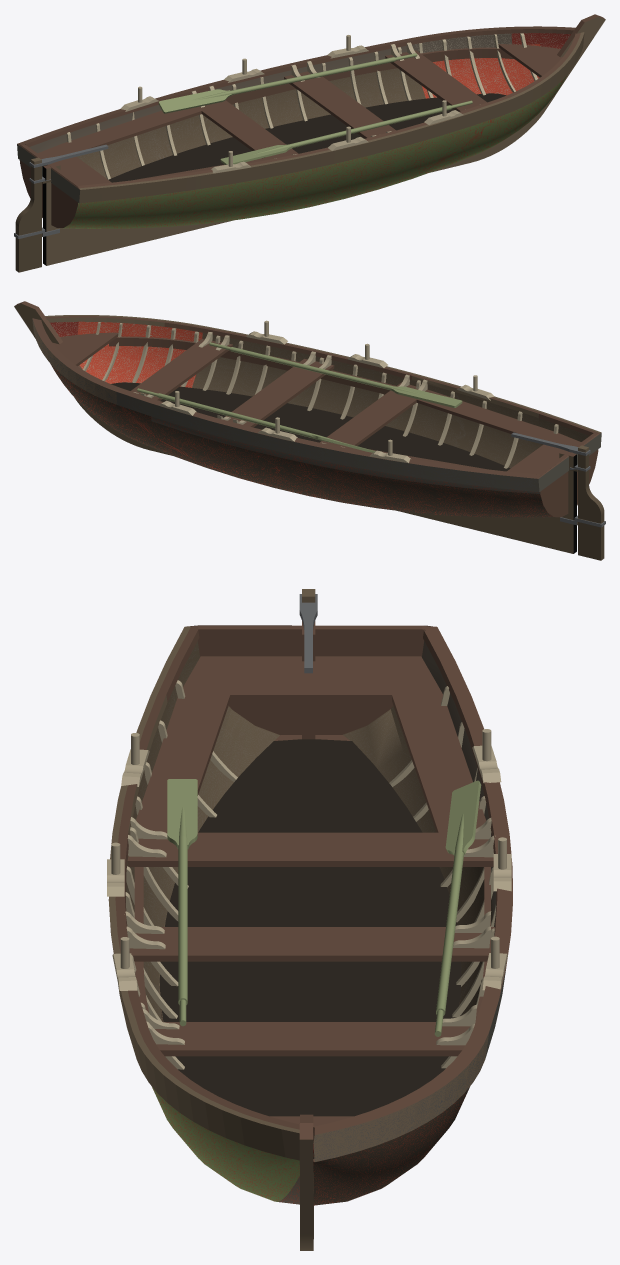
File: boat.glb
3 views of the same model, one above another, from view 1: azimuth 30°, elevation 25°; view 2: azimuth 150°, elevation 25°; view 3: azimuth 270°, elevation 25° (orthographic). The views are drawn at different scales.
Visible parts, largest first — view 1: outer, inner, bottom, bones, rudder, paddle2, paddle1; view 2: outer, inner, bottom, bones, rudder, paddle1, paddle2; view 3: inner, bottom, outer, bones, paddle1, paddle2, rudder.
Part boxes in pixels (x1,y1,x2,y2): outer: (17,17,605,265); inner: (17,14,604,227); bottom: (108,93,506,182); bones: (66,33,537,179); rudder: (14,144,108,272); paddle2: (158,53,417,113); paddle1: (220,100,472,164); outer: (14,303,601,553); inner: (15,301,600,517); bottom: (111,382,510,471); bones: (82,320,558,468); rudder: (511,432,605,560); paddle1: (209,342,462,407); paddle2: (137,388,375,452); inner: (115,621,512,1161); bottom: (159,739,461,1116); outer: (108,626,506,1250); bones: (107,680,511,1069); paddle1: (167,779,197,1026); paddle2: (434,780,481,1036); rudder: (299,589,317,673).
Bounding box in the file's own units: 6.06 × 1.13 × 1.81.
Materials: 3 (3 with a texture image).
